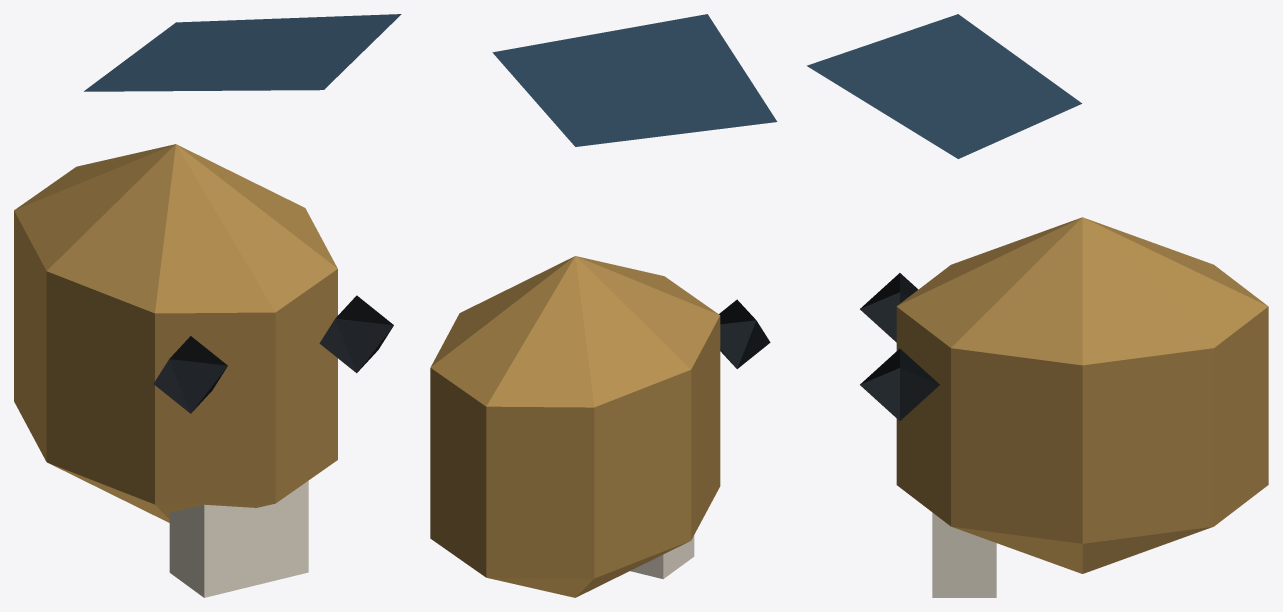
Rendered from fish_carp.glb.
The picture shows the model from 3 angles, left to right: view 1: azimuth 30°, elevation 25°; view 2: azimuth 150°, elevation 25°; view 3: azimuth 270°, elevation 25°; orthographic projection. The views are drawn at different scales.
Parts seen in each view (by area): view 1: fish_carp; view 2: fish_carp; view 3: fish_carp.
Part boxes in pixels (box(x1,y1,x2,y2)): fish_carp: box(14, 14, 401, 597); fish_carp: box(430, 14, 777, 597); fish_carp: box(806, 14, 1268, 597).
Size of the model in its own units: 0.6128 by 1 by 0.824.
